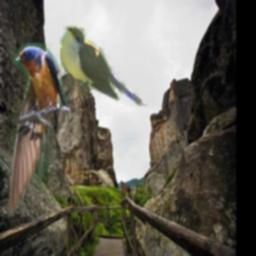Cuckoo: (60, 26, 149, 107)
Swallow: (7, 44, 71, 218)
